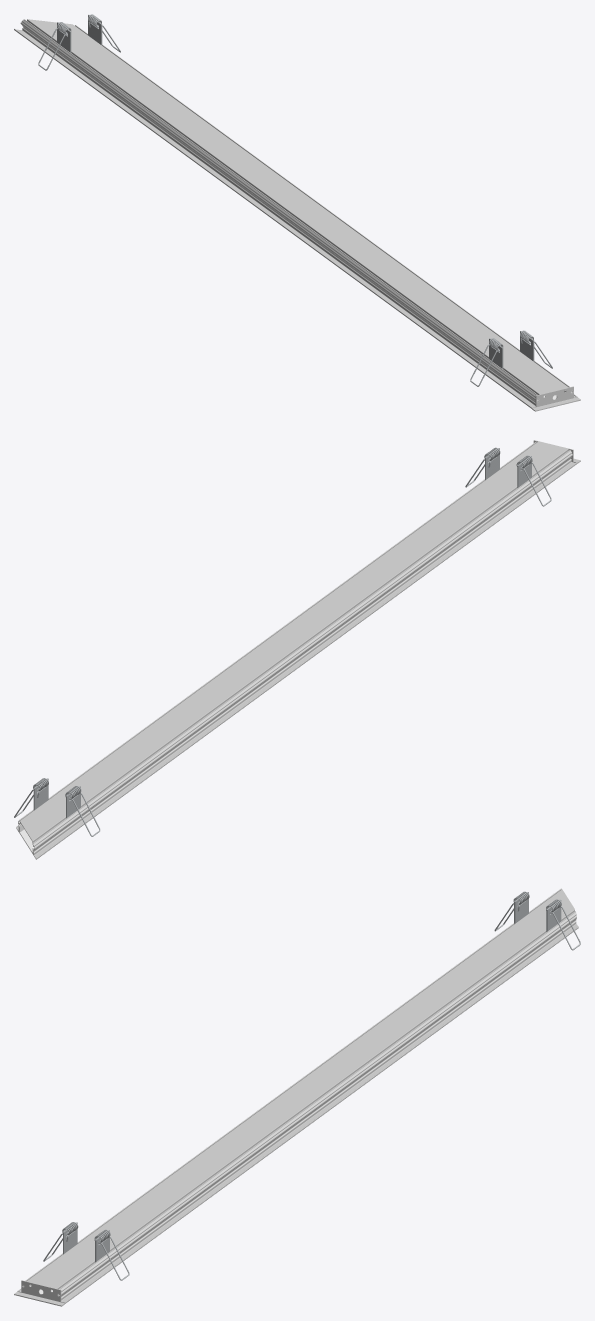
The model's file is Fit40SlimEmbutido-corte-45.glb.
3 views of the same model, one above another, from view 1: azimuth 30°, elevation 25°; view 2: azimuth 150°, elevation 25°; view 3: azimuth 330°, elevation 25° (orthographic). The views are drawn at different scales.
Visible parts, largest first — view 1: 3DGeom-1, 3DGeom-8; view 2: 3DGeom-1; view 3: 3DGeom-1, 3DGeom-8.
Boxes of the visible parts, x1,y1,x2,y2 form: 3DGeom-1: [14, 19, 576, 408]; 3DGeom-8: [531, 386, 580, 411]; 3DGeom-1: [16, 441, 577, 859]; 3DGeom-1: [18, 888, 578, 1303]; 3DGeom-8: [14, 1280, 65, 1306].
Bounding box in the file's own units: 0.0843 × 0.0405 × 1.01.
Materials: 3 (1 with a texture image).
